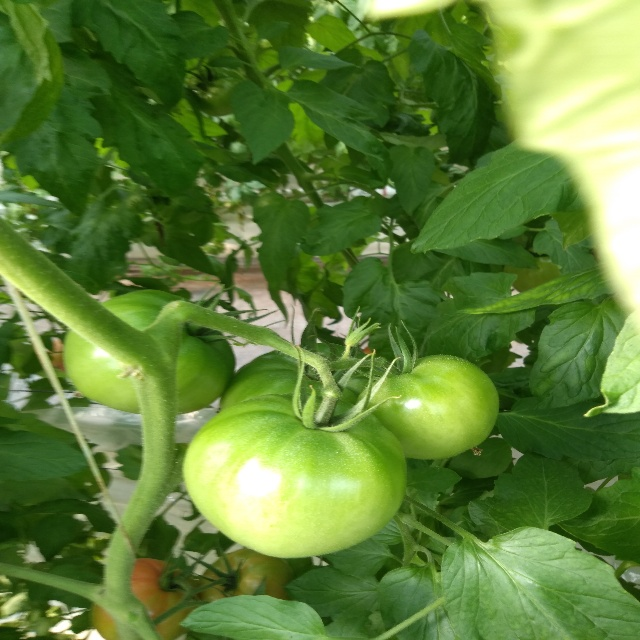b_green: (182, 391, 407, 559), (62, 289, 236, 416), (354, 354, 501, 460), (217, 342, 390, 412), (198, 548, 297, 607)
b_half_ripened: (92, 558, 202, 640)
